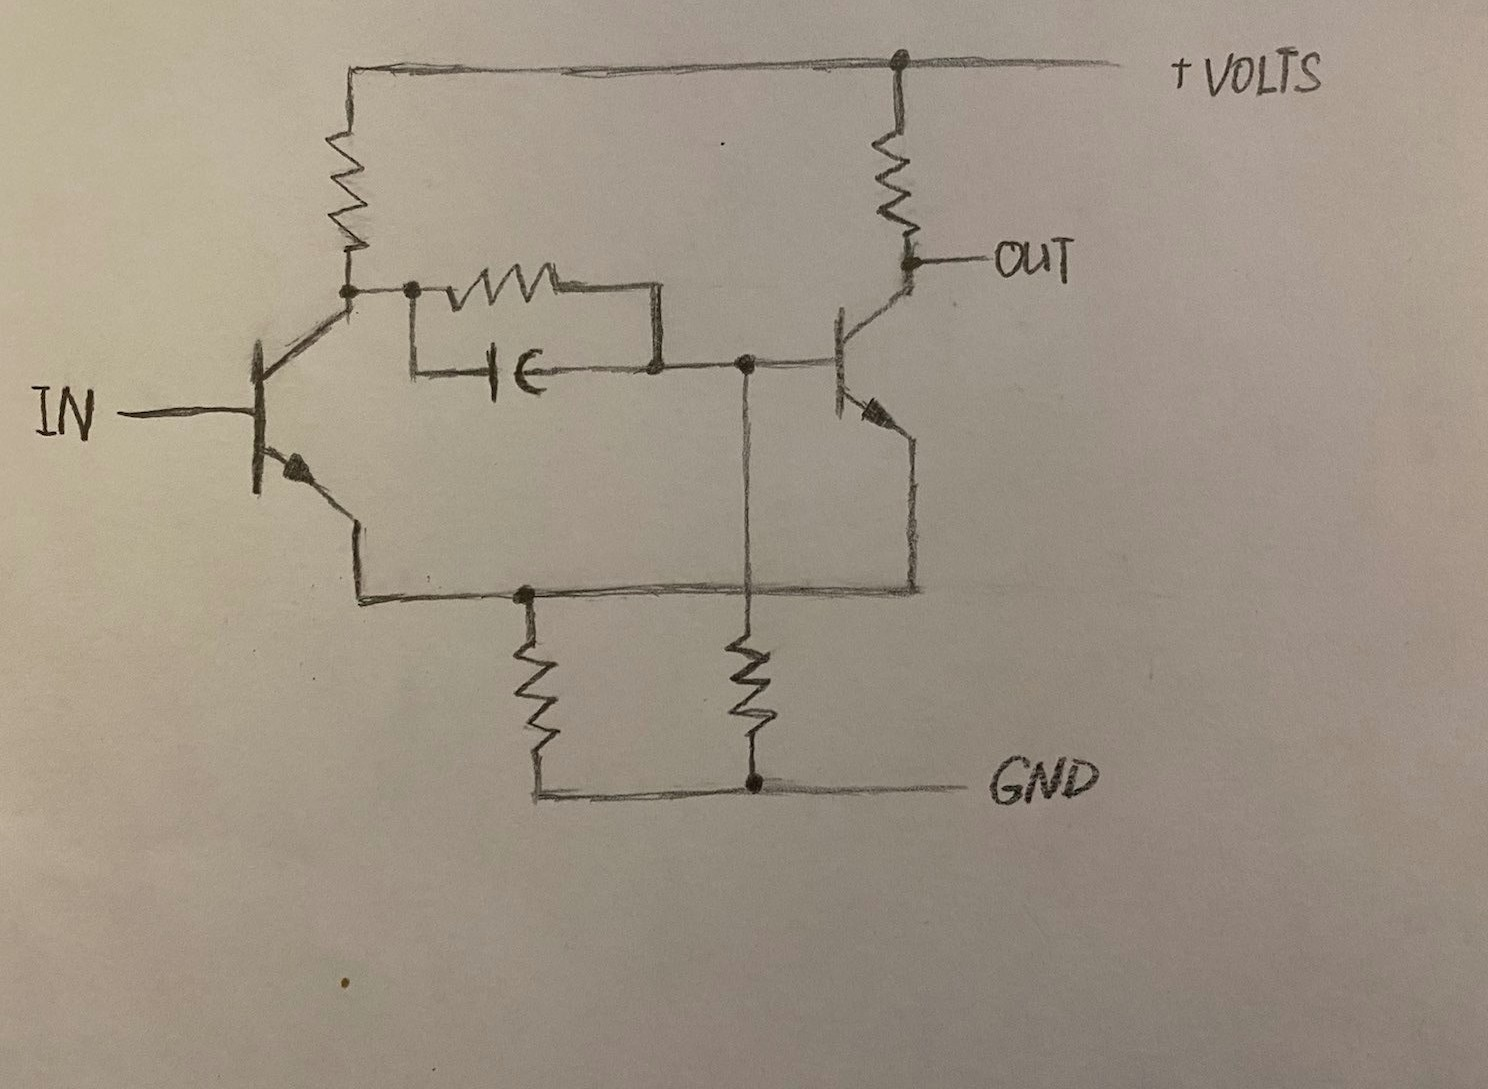capacitor.unpolarized: (468, 340, 563, 406)
crossover: (724, 564, 771, 609)
junction: (890, 564, 944, 612), (727, 764, 776, 816), (873, 40, 929, 85), (520, 774, 570, 820), (499, 576, 551, 620), (332, 579, 379, 625), (723, 342, 768, 385), (634, 346, 675, 390), (390, 273, 431, 309), (336, 50, 373, 83), (891, 247, 929, 279), (330, 273, 365, 307), (637, 269, 672, 303), (401, 356, 430, 391)
resistor: (322, 115, 374, 259), (720, 622, 780, 746), (868, 122, 929, 240), (442, 262, 568, 316), (509, 637, 564, 762)
terminal: (1052, 44, 1145, 79), (110, 396, 189, 435), (928, 771, 982, 803), (950, 245, 992, 267)
text: (1203, 42, 1325, 100), (985, 751, 1103, 811), (27, 379, 101, 450), (992, 234, 1081, 286), (1169, 51, 1195, 95)
transistor: (221, 309, 365, 527), (829, 286, 935, 449)
